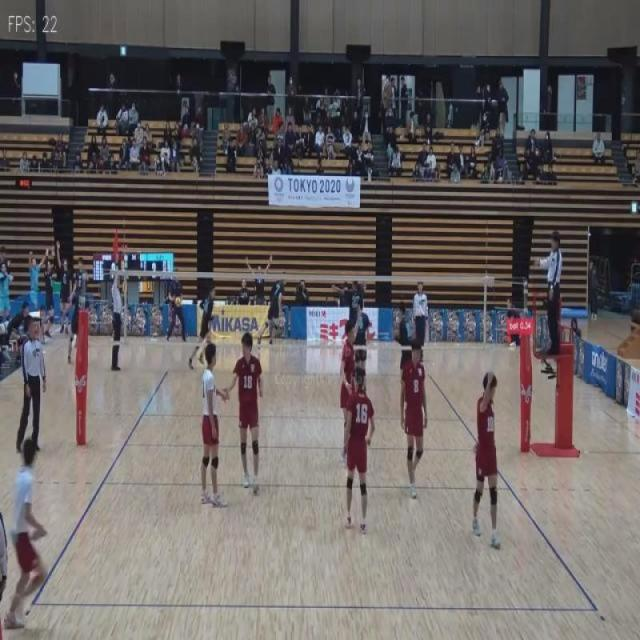volleyball: (174, 296, 181, 307)
